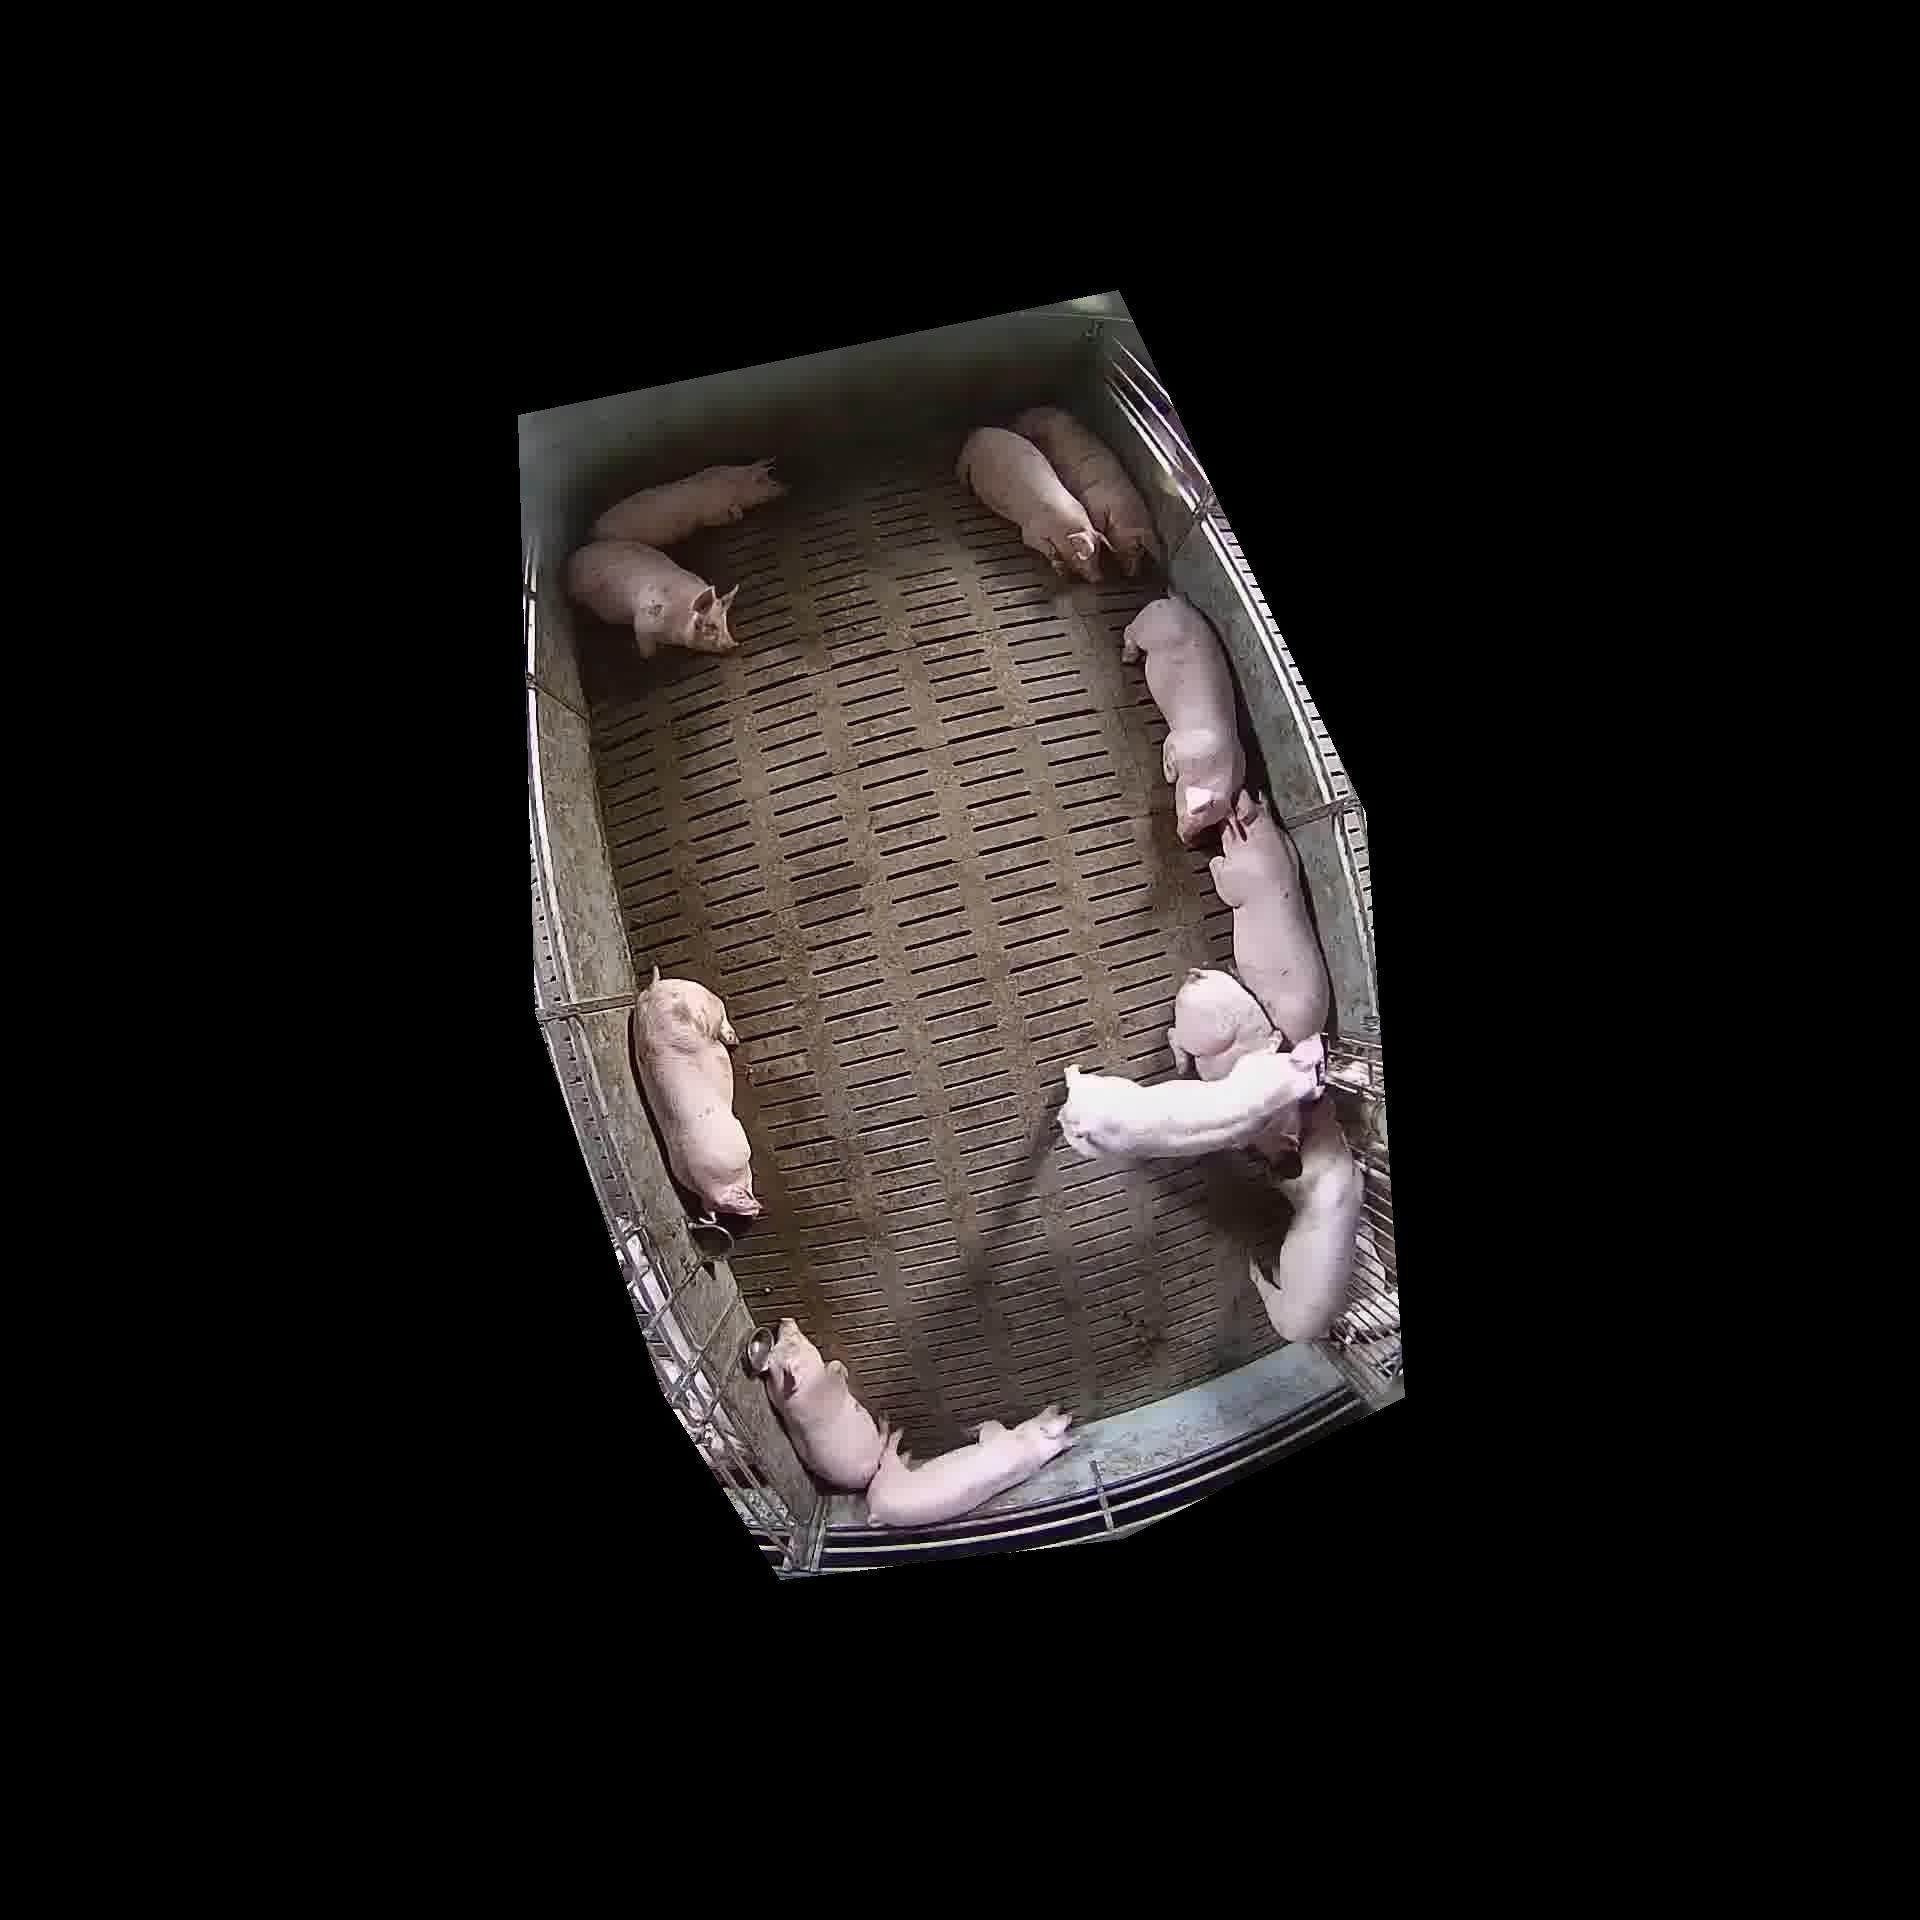pig: (1058, 1037, 1322, 1159), (635, 971, 760, 1217), (1124, 594, 1245, 846), (1210, 789, 1329, 1043), (1252, 1099, 1363, 1342), (867, 1405, 1071, 1524), (1015, 406, 1159, 575), (956, 427, 1101, 580), (758, 1319, 886, 1489), (568, 540, 735, 656), (593, 461, 784, 547), (1169, 969, 1278, 1080)
